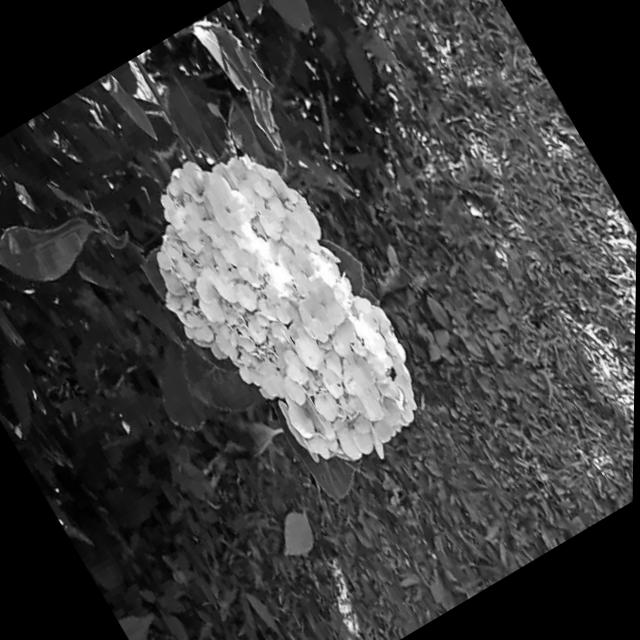Flower: (100, 103, 451, 507)
